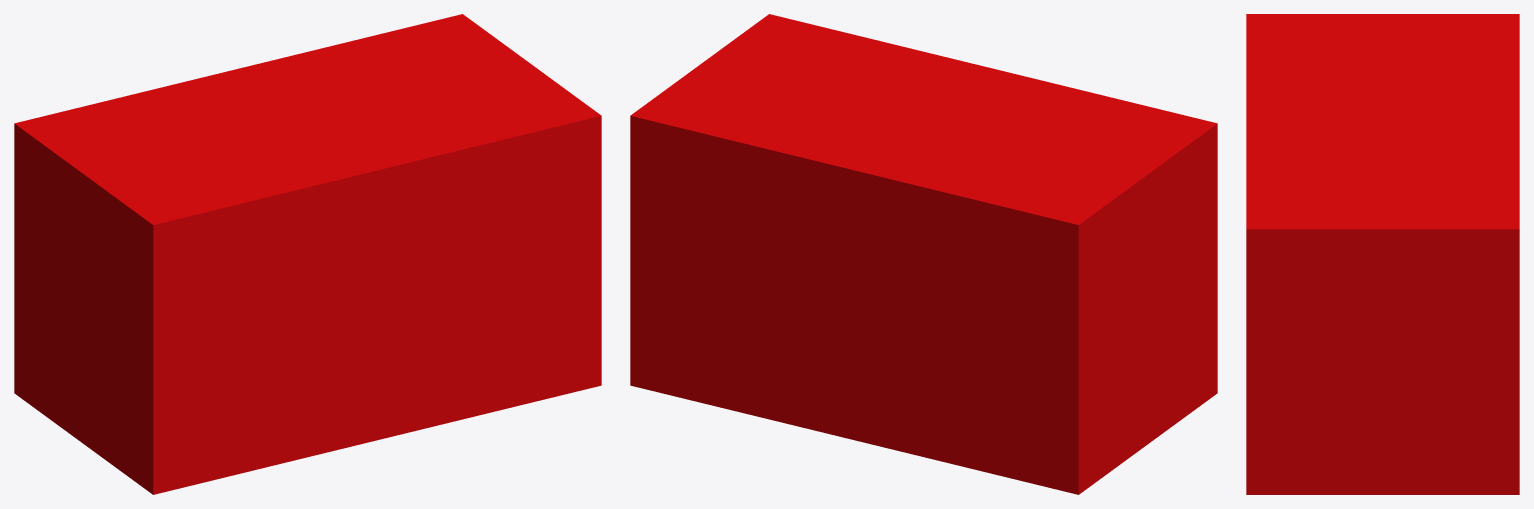
The model's file is muzzle_02.fbx.
3 renders of one model, left to right at view 1: azimuth 30°, elevation 25°; view 2: azimuth 150°, elevation 25°; view 3: azimuth 270°, elevation 25°, orthographic.
Parts seen in each view (by area): view 1: muzzle_1; view 2: muzzle_1; view 3: muzzle_1.
Boxes of the visible parts, x1,y1,x2,y2 form: muzzle_1: (14, 14, 601, 494); muzzle_1: (630, 14, 1217, 494); muzzle_1: (1246, 14, 1519, 494).
Bounding box in the file's own units: 362 × 208 × 194.
